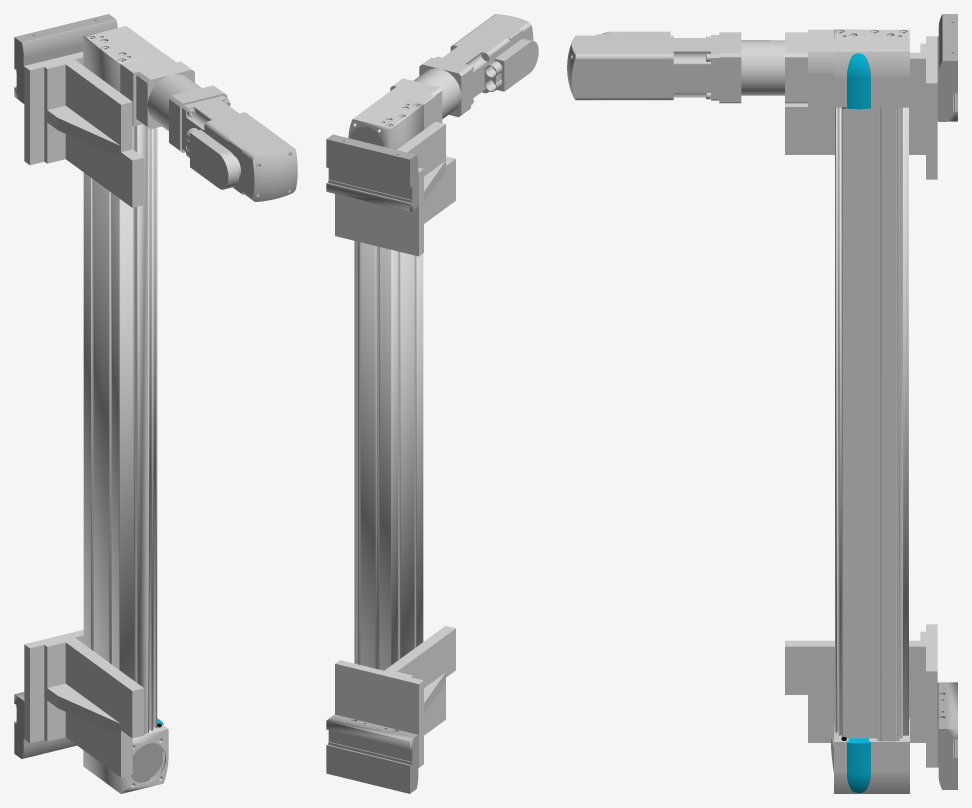
File: Axis1.glb
3 views of the same model, side by side, from view 1: azimuth 30°, elevation 25°; view 2: azimuth 150°, elevation 25°; view 3: azimuth 270°, elevation 25° (orthographic). The views are drawn at different scales.
Parts seen in each view (by area): view 1: Axis1; view 2: Axis1; view 3: Axis1.
Part boxes in pixels (x1=…): Axis1: x1=14, y1=14, x2=297, y2=793; Axis1: x1=326, y1=14, x2=538, y2=793; Axis1: x1=567, y1=14, x2=957, y2=793.
Bounding box in the file's own units: 0.122 × 0.886 × 0.4224.
